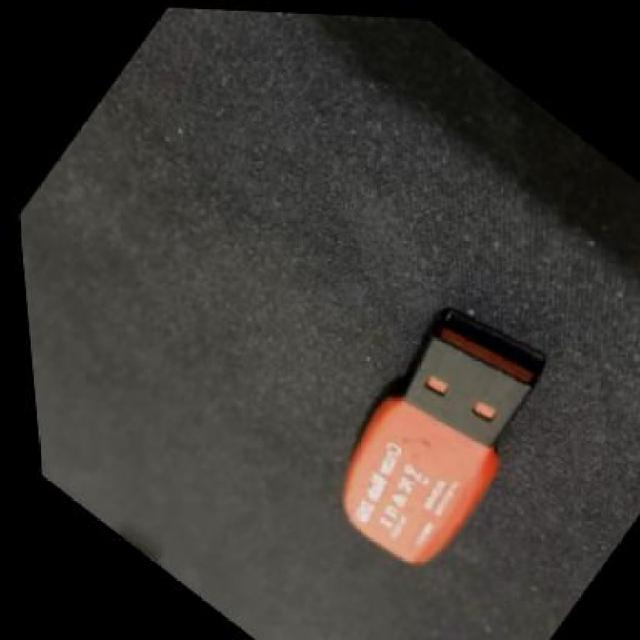Flashdisk: (254, 248, 611, 624)
